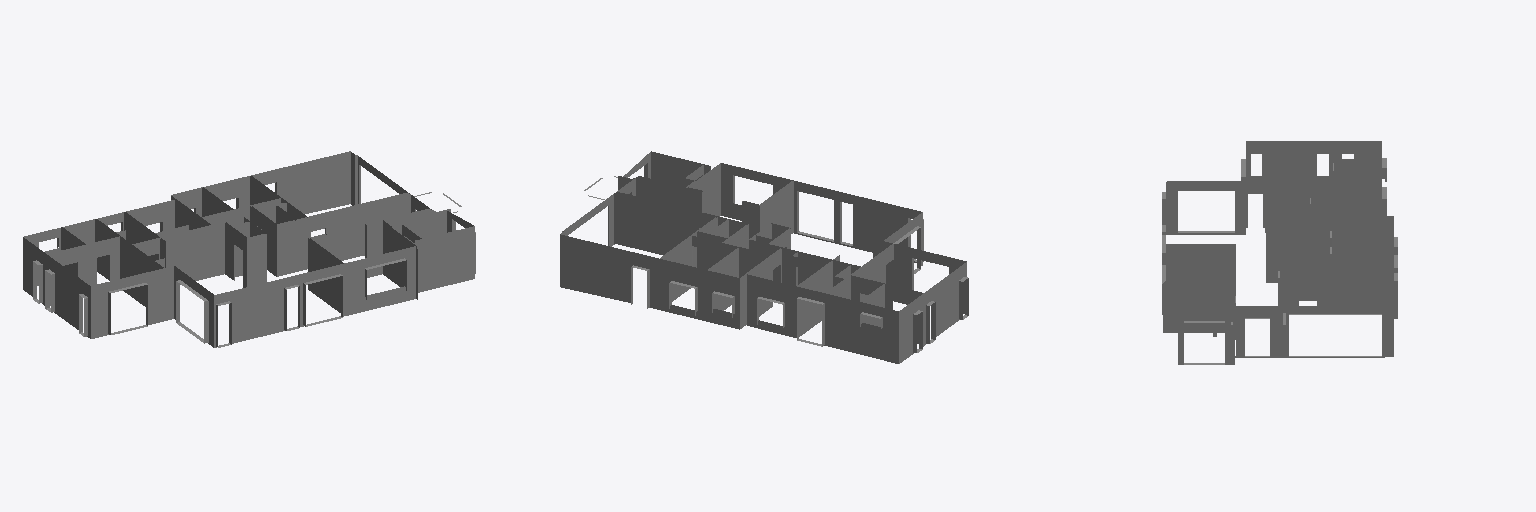
File: interior_walls.obj
3 views of the same model, side by side, from view 1: azimuth 30°, elevation 25°; view 2: azimuth 150°, elevation 25°; view 3: azimuth 270°, elevation 25° (orthographic).
Parts seen in each view (by area): view 1: Basic_Wall; view 2: Basic_Wall; view 3: Basic_Wall.
Part boxes in pixels (x1,y1,x2,y2): Basic_Wall: (23, 151, 475, 347); Basic_Wall: (560, 151, 968, 363); Basic_Wall: (1162, 141, 1397, 364).
Size of the model in its own units: 2234 by 306 by 1230.